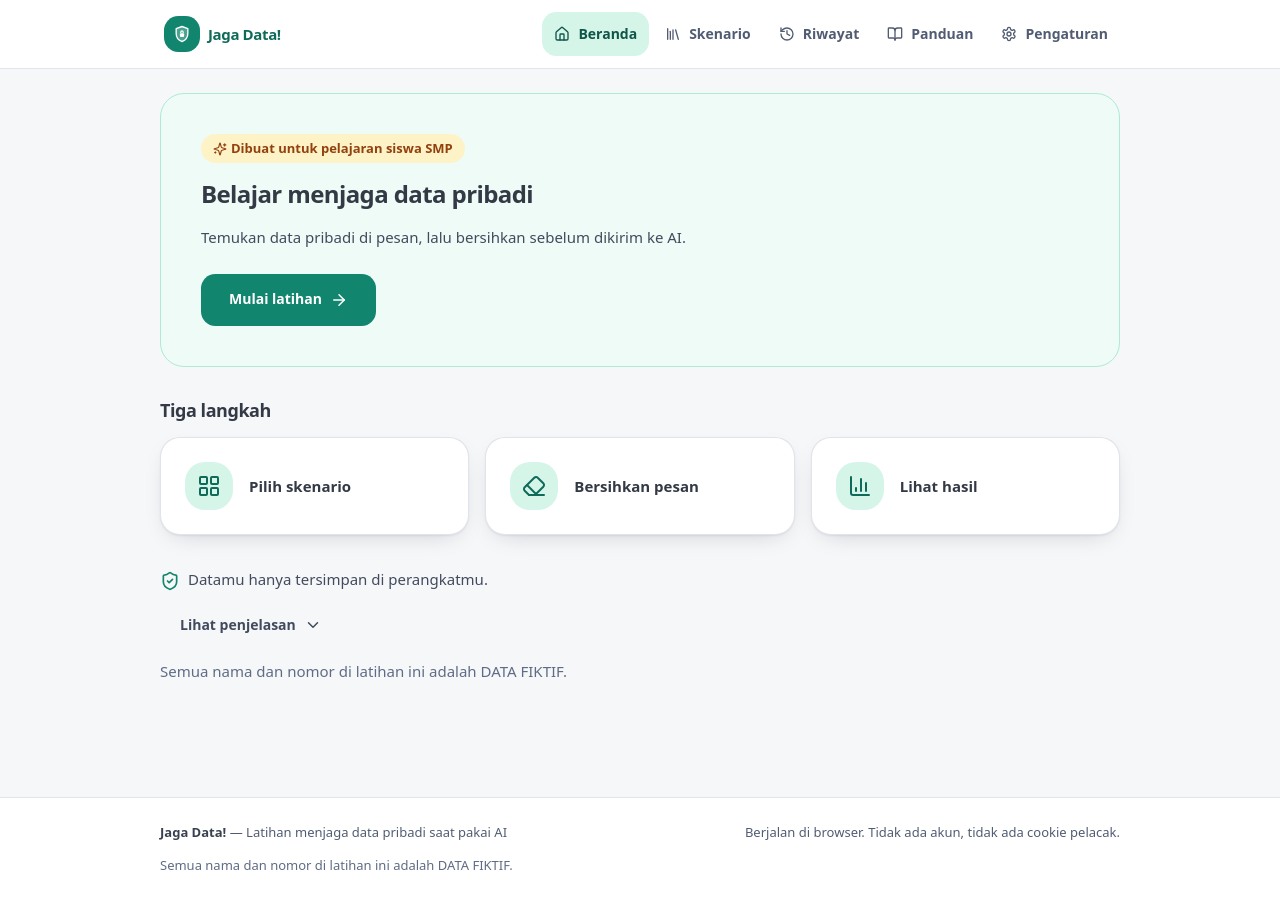
Scenario: AppRoutes — rute dikenal › menggulung ke atas setiap kali rute berubah
Check: the heading "Belajar menjaga data pribadi" is shown, box left=201, top=177, right=533, bottom=210
Click the link "Riwayat": (819, 33) left=779, top=24, right=859, bottom=43
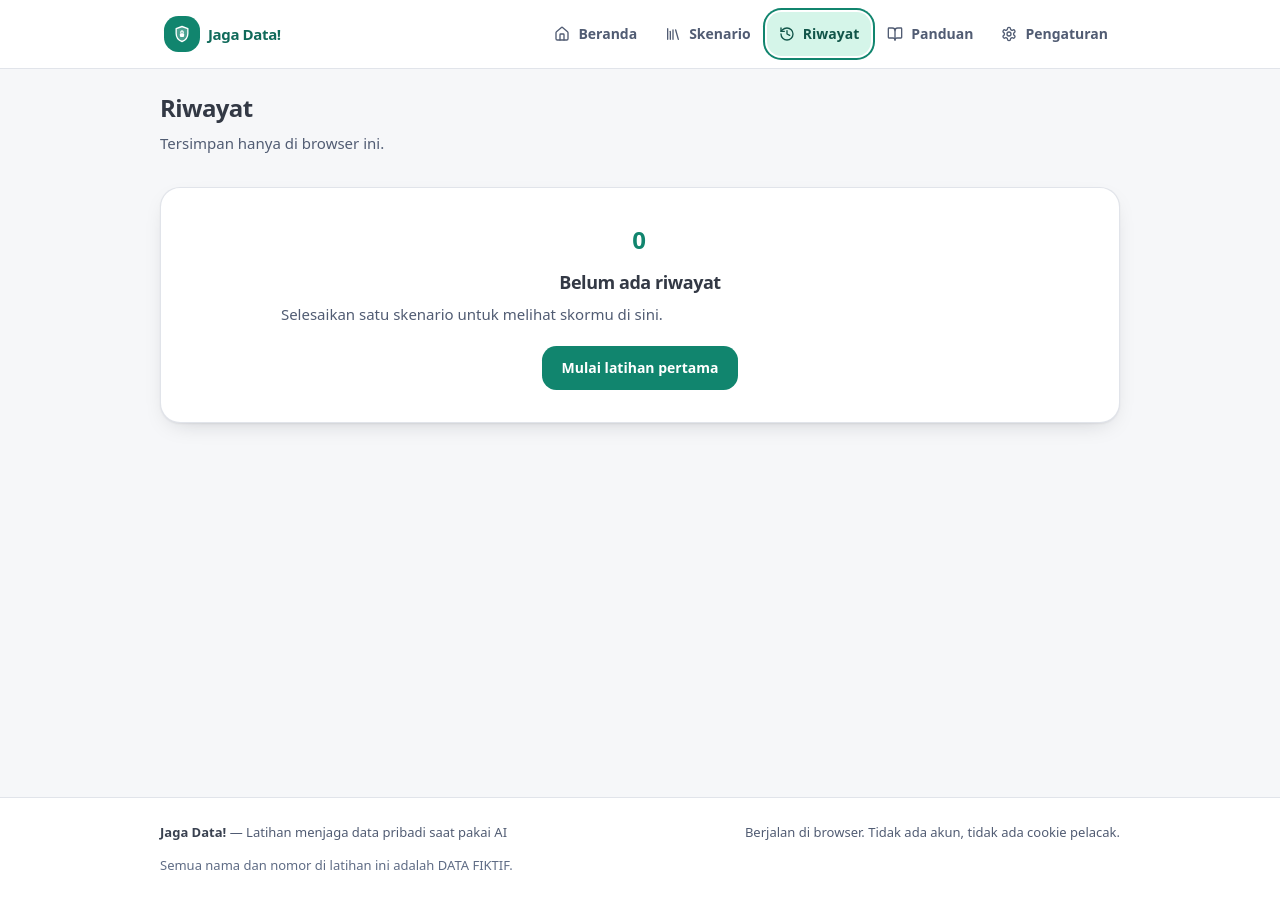
Check: the heading "Riwayat" is shown, box left=160, top=91, right=253, bottom=124
